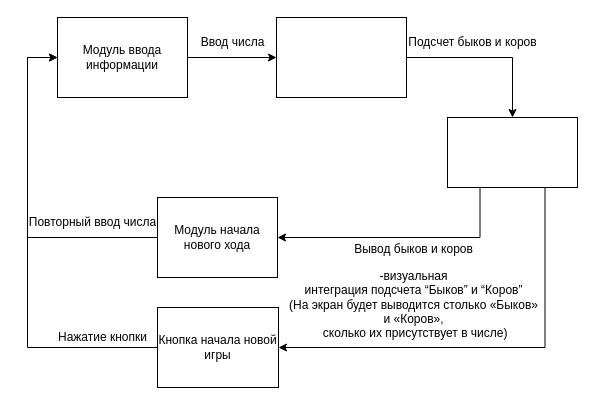
The diagram is 595 pixels wide and 405 high, and some of its shapes have lost their labels. The shapes that lost their labels are listed below. From the top down, each one's box as (x1, y1, x2, y2) in pixels, then its label:
(276, 16, 406, 98): Модуль обработки хода
(446, 116, 578, 188): Модуль вывода результата раунда
